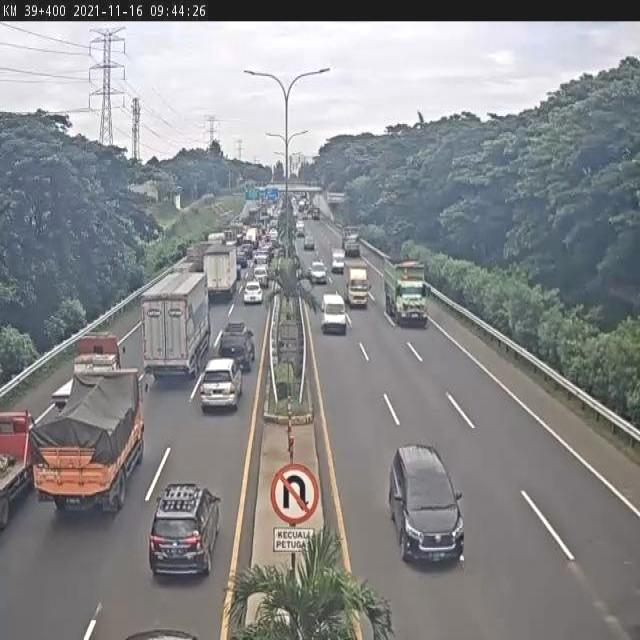Car: (130, 476, 232, 590), (390, 445, 464, 564), (198, 357, 244, 411), (219, 321, 256, 372), (243, 280, 263, 305), (310, 261, 328, 284), (253, 264, 270, 288), (331, 250, 346, 273), (303, 232, 315, 250)
Truck: (27, 368, 149, 532), (136, 274, 214, 376), (0, 415, 35, 532), (383, 257, 428, 328), (74, 334, 122, 386), (203, 245, 238, 301), (345, 264, 369, 308), (344, 237, 360, 258)
Van: (322, 296, 350, 337)
